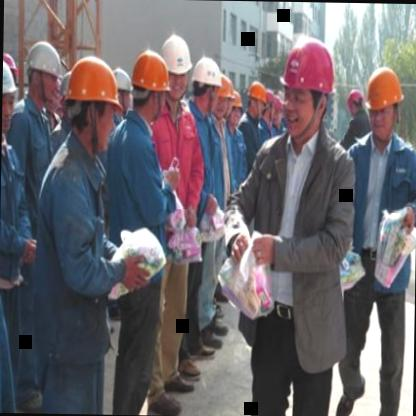helmet: (278, 32, 334, 139), (64, 50, 122, 150), (362, 60, 406, 140), (127, 47, 167, 120), (24, 38, 64, 110), (163, 32, 193, 102), (191, 59, 221, 115), (109, 62, 133, 120), (2, 58, 18, 128), (244, 78, 267, 124), (346, 87, 367, 124), (218, 70, 230, 123), (228, 90, 243, 129)
